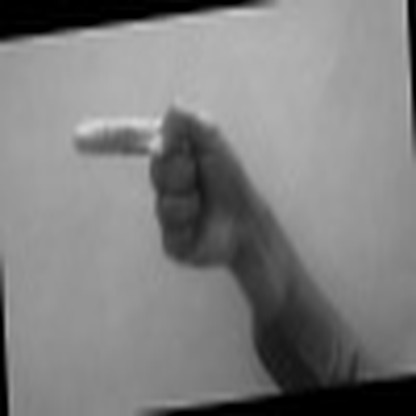g: (68, 94, 253, 269)
